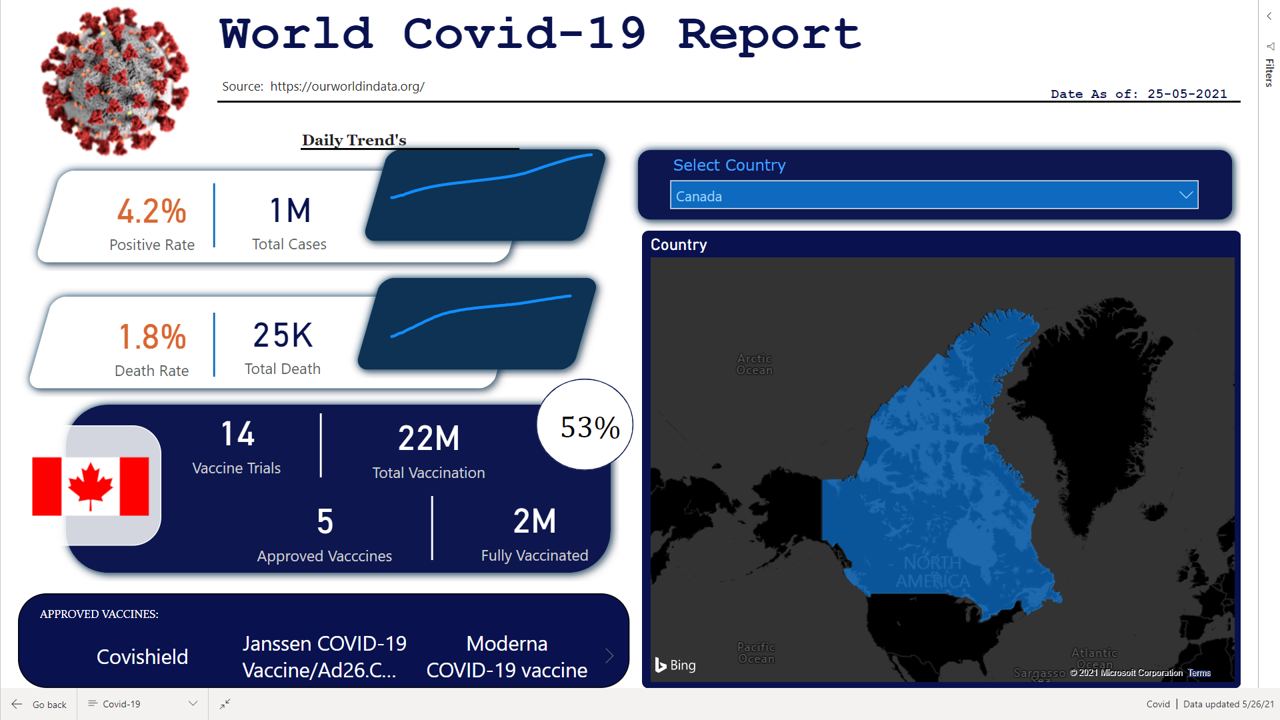

The page's visual inventory and layout, read from the dashboard file:
{"tool":"powerbi","page":{"name":"Covid-19","canvas":[1280,720],"ordinal":0},"visuals":[{"type":"group","id":"g1","title":"Group 2","box":[8.6,169.3,538.8,114],"z":0,"group":"g4"},{"type":"shape","box":[41.2,414.5,587.9,193.9],"z":0},{"type":"shape","box":[351.2,147.1,275.7,114.5],"z":1000,"group":"g4"},{"type":"group","id":"g2","title":"Group 4","box":[0,301.5,532.9,113.2],"z":1000},{"type":"shape","box":[8.6,169.3,538.8,114],"z":1500,"group":"g1"},{"type":"shape","box":[640,147.9,640,90.9],"z":2000},{"type":"filledMap","fields":{"Category":["CountryList.CovidCountry"]},"box":[653.3,241.2,626.7,478.8],"z":3000},{"type":"card","fields":{"Values":["Sum(Vaccine Trial List.Approved Vacccines)"]},"box":[244.8,497,151.5,111.5],"z":4000},{"type":"shape","box":[343.4,281.8,274.5,114.5],"z":5000},{"type":"slicer","fields":{"Values":["CountryList.CovidCountry"]},"box":[672.7,157.6,573.3,83.6],"z":6000},{"type":"shape","box":[0,301.5,533.3,113.9],"z":6000,"group":"g2"},{"type":"card","title":"Total Cases","fields":{"Values":["Max(owid-covid-data.total_vaccinations)"]},"box":[357.6,409.7,144.2,111.5],"z":7000},{"type":"group","id":"g3","title":"Group 1","box":[465.5,497,151.5,111.5],"z":8000},{"type":"textbox","box":[206.1,1.2,1073.9,120],"z":9000},{"type":"textbox","box":[283.6,132.1,135.8,30.3],"z":10000},{"type":"shape","box":[541.8,396.4,101.8,95.8],"z":11000},{"type":"card","fields":{"Values":["Max(owid-covid-data.VaccinationRate)"]},"box":[553.9,389.1,89.7,111.5],"z":12000},{"type":"group","id":"g4","title":"Group 3","box":[8.6,147.1,618.3,136.3],"z":13000},{"type":"image","box":[0,0,202.4,169.7],"z":14000},{"type":"card","fields":{"Values":["Max(owid-covid-data.Death Rate)"]},"box":[77.6,305.5,124.8,106.7],"z":15000},{"type":"card","title":"Total Cases","fields":{"Values":["Max(owid-covid-data.total_deaths)"]},"box":[213.3,307.9,127.3,99.4],"z":16000},{"type":"lineChart","fields":{"Y":["Max(owid-covid-data.total_deaths)"],"Category":["owid-covid-data.date"]},"box":[375.8,276.4,217,101.8],"z":17000},{"type":"lineChart","fields":{"Category":["owid-covid-data.date"],"Y":["Max(owid-covid-data.total_cases)"]},"box":[375.8,140.6,238.8,100.6],"z":18000},{"type":"card","fields":{"Values":["Max(owid-covid-data.positive_rate)"]},"box":[38.2,180.9,204.8,93.3],"z":18000,"group":"g4"},{"type":"card","title":"Total Cases","fields":{"Values":["Max(owid-covid-data.people_fully_vaccinated)"]},"box":[465.5,497,151,111],"z":18000,"group":"g3"},{"type":"textbox","box":[208.5,76.4,298.2,35.2],"z":19000},{"type":"card","title":"Total Cases","fields":{"Values":["Max(owid-covid-data.total_cases)"]},"box":[190.9,177.3,186.7,99.4],"z":19000,"group":"g4"},{"type":"slicer","fields":{"Values":["VaccineApproveList.VName"]},"box":[0,620.6,640,99.4],"z":20000},{"type":"simpleImageEBC4593F96F1425FB3D84C5BF02B5075","fields":{"imageURL":["Country_Flags.ImageURL"]},"box":[0,444.8,150.3,126.1],"z":21000},{"type":"card","fields":{"Values":["Sum(Vaccine Trial List.Vaccine Trials)"]},"box":[161.2,409.7,134.5,101.8],"z":22000},{"type":"shape","box":[133.3,191.5,144.2,66.7],"z":23000},{"type":"shape","box":[133.3,327.3,144.2,66.7],"z":24000},{"type":"shape","box":[244.8,432.7,144.2,66.7],"z":25000},{"type":"shape","box":[361.2,518.8,144.2,66.7],"z":26000},{"type":"shape","box":[295.8,121.2,229.1,69.1],"z":27000},{"type":"shape","box":[208.5,71.5,1071.5,69.1],"z":27001}]}

Visuals, with their boxes in screenshot pixels (x1, y1, x2, y2):
"Group 2" group: crop(28, 161, 541, 269)
shape: crop(59, 394, 618, 579)
shape: crop(354, 140, 616, 249)
"Group 4" group: crop(20, 287, 527, 394)
shape: crop(28, 161, 541, 269)
shape: crop(629, 141, 1238, 227)
filledMap - CountryList.CovidCountry: crop(641, 229, 1238, 685)
card - Sum(Vaccine Trial List.Approved Vacccines): crop(253, 473, 397, 579)
shape: crop(347, 268, 608, 377)
slicer - CountryList.CovidCountry: crop(660, 150, 1205, 229)
shape: crop(20, 287, 527, 395)
"Total Cases" card: crop(360, 390, 497, 496)
"Group 1" group: crop(463, 473, 607, 579)
textbox: crop(216, 1, 1238, 115)
textbox: crop(290, 126, 419, 154)
shape: crop(535, 377, 632, 468)
card - Max(owid-covid-data.VaccinationRate): crop(547, 370, 632, 476)
"Group 3" group: crop(28, 140, 616, 270)
image: crop(20, 0, 213, 161)
card - Max(owid-covid-data.Death Rate): crop(94, 291, 213, 392)
"Total Cases" card: crop(223, 293, 344, 387)
lineChart - Max(owid-covid-data.total_deaths) x owid-covid-data.date: crop(377, 263, 584, 360)
lineChart - owid-covid-data.date x Max(owid-covid-data.total_cases): crop(377, 134, 605, 229)
card - Max(owid-covid-data.positive_rate): crop(56, 172, 251, 261)
"Total Cases" card: crop(463, 473, 606, 578)
textbox: crop(218, 73, 502, 106)
"Total Cases" card: crop(202, 169, 379, 263)
slicer - VaccineApproveList.VName: crop(20, 590, 629, 685)
simpleImageEBC4593F96F1425FB3D84C5BF02B5075 - Country_Flags.ImageURL: crop(20, 423, 163, 543)
card - Sum(Vaccine Trial List.Vaccine Trials): crop(173, 390, 301, 487)
shape: crop(147, 182, 284, 246)
shape: crop(147, 311, 284, 375)
shape: crop(253, 412, 390, 475)
shape: crop(364, 493, 501, 557)
shape: crop(301, 115, 519, 181)
shape: crop(218, 68, 1238, 134)
